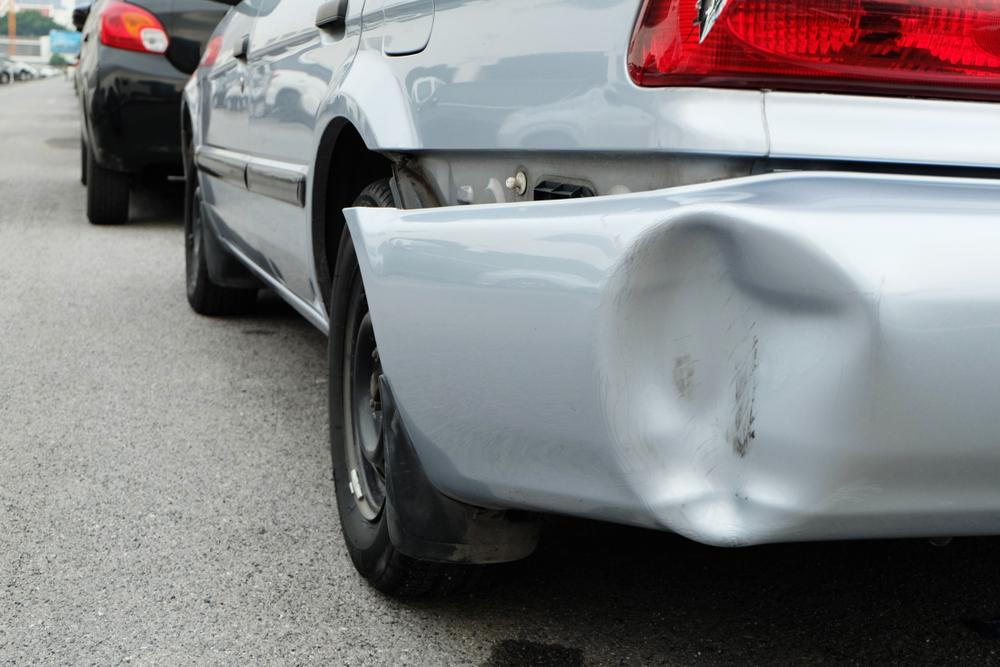dent: (598, 209, 882, 546)
